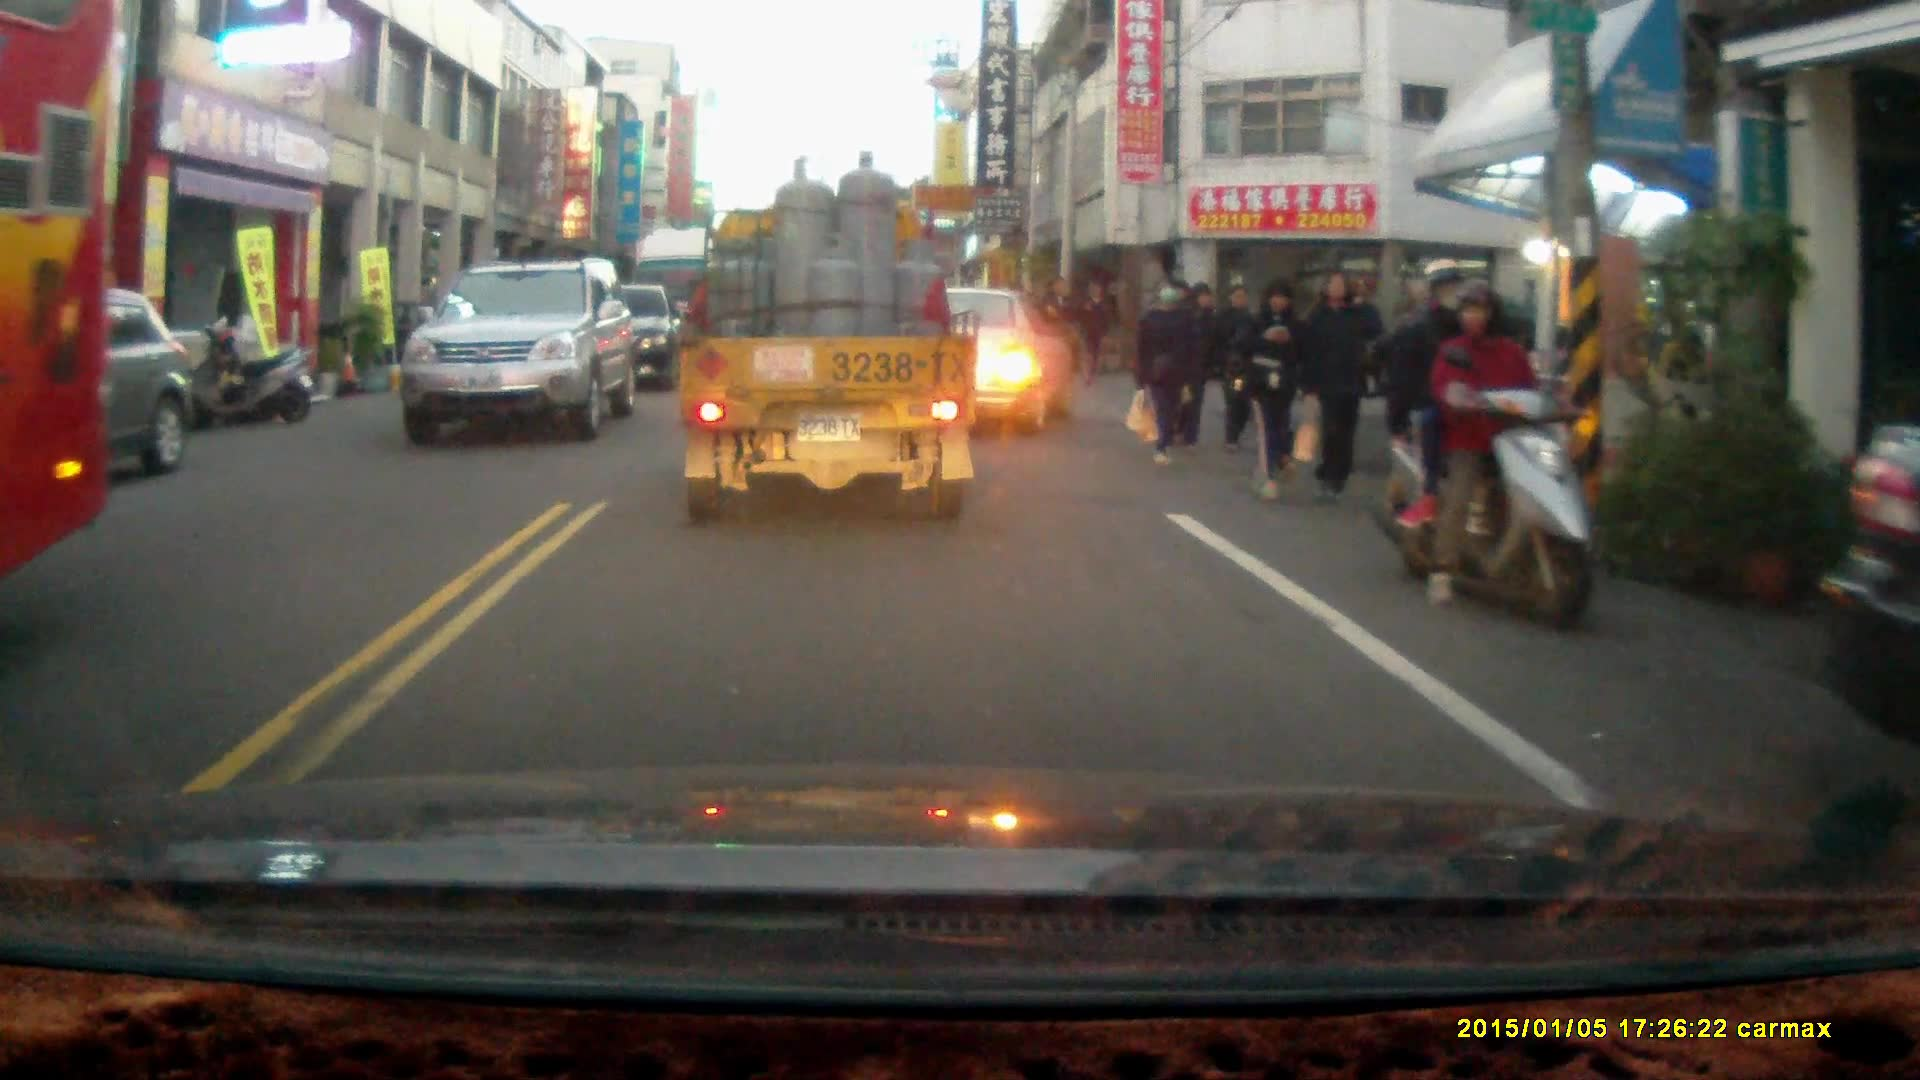pedestrian: (1295, 272, 1382, 502), (1234, 274, 1306, 499), (1132, 273, 1198, 464), (1207, 281, 1270, 447), (1172, 284, 1222, 450), (1041, 278, 1080, 386), (1075, 279, 1112, 388)
rider: (1365, 256, 1596, 627)
vehicle: (674, 148, 979, 525), (1, 7, 118, 577), (403, 260, 642, 448), (4, 279, 193, 479), (1809, 422, 1920, 748), (856, 286, 1084, 440)
